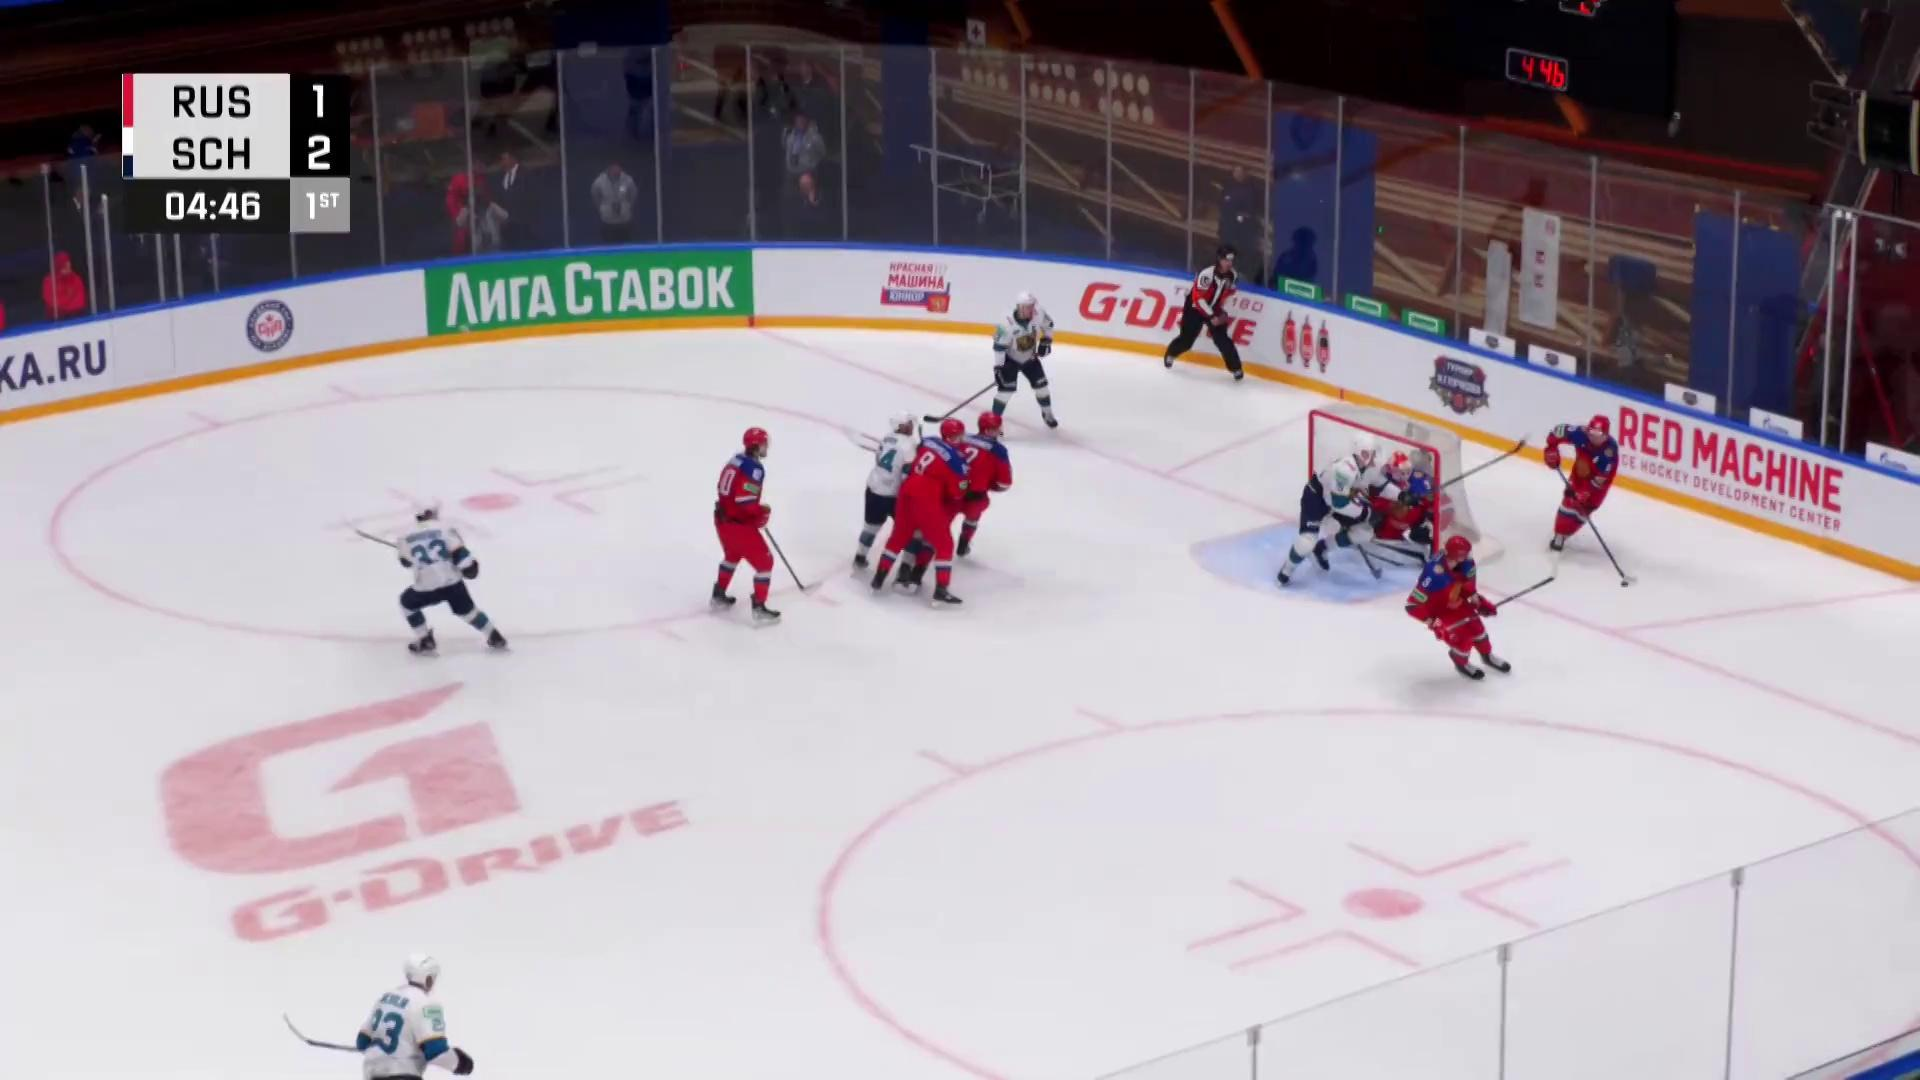ball: (1619, 580, 1630, 588)
